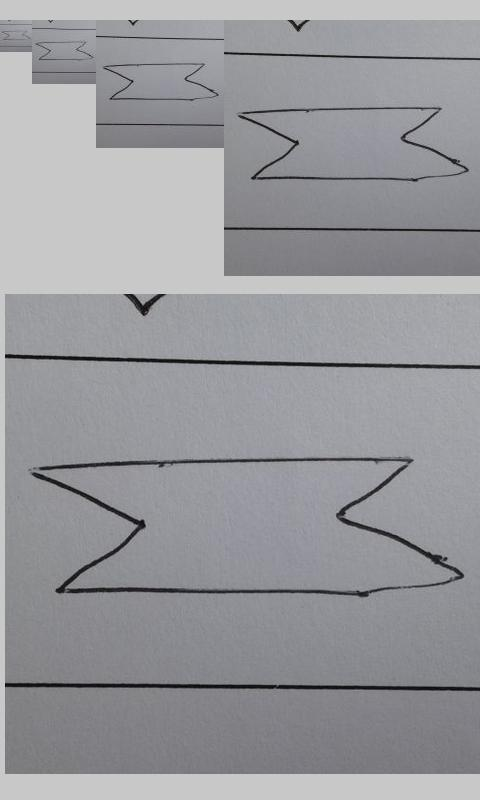edit_text: (28, 455, 464, 603), (236, 106, 470, 183), (103, 62, 220, 102), (35, 40, 93, 61), (2, 30, 31, 41)
